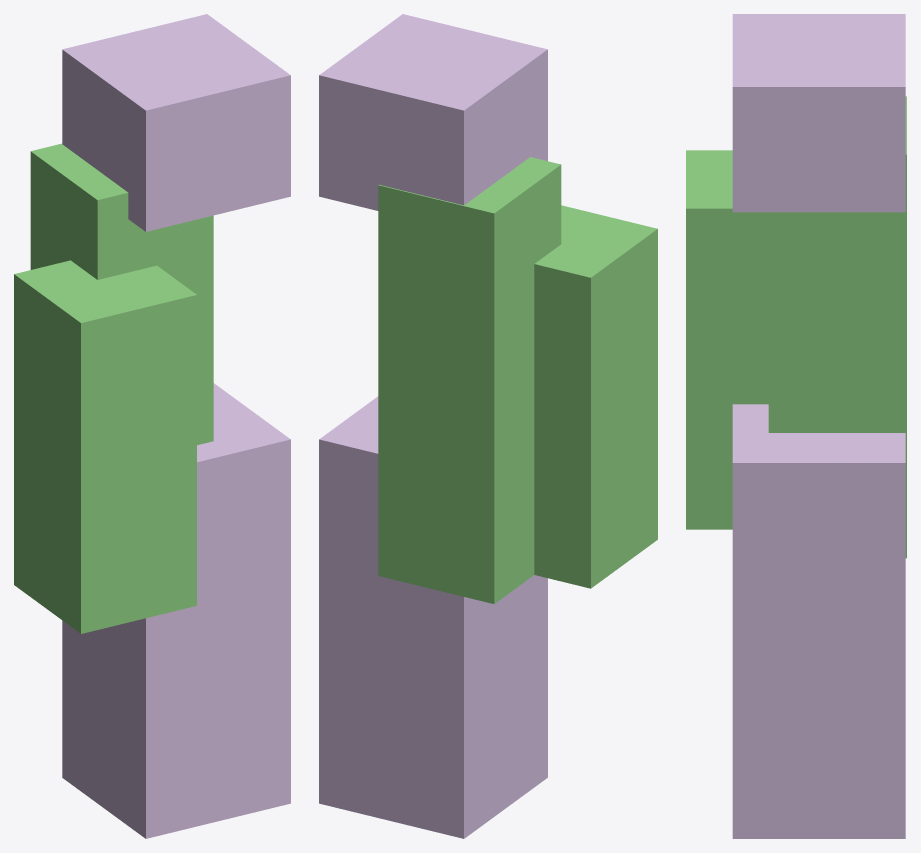
Rendered from Item_Herb_AMF_Snoutsage_Bundle1.glb.
The picture shows the model from 3 angles, left to right: view 1: azimuth 30°, elevation 25°; view 2: azimuth 150°, elevation 25°; view 3: azimuth 270°, elevation 25°; orthographic projection. The views are drawn at different scales.
Visible parts, largest first — view 1: Item_Herb_AMF_Snoutsage_Bundle1; view 2: Item_Herb_AMF_Snoutsage_Bundle1; view 3: Item_Herb_AMF_Snoutsage_Bundle1.
Boxes of the visible parts, box(x1,y1,x2,y2) form: Item_Herb_AMF_Snoutsage_Bundle1: box(14, 14, 290, 838); Item_Herb_AMF_Snoutsage_Bundle1: box(319, 14, 657, 838); Item_Herb_AMF_Snoutsage_Bundle1: box(686, 14, 906, 838).
Size of the model in its own units: 0.0801 by 0.24 by 0.0639.
